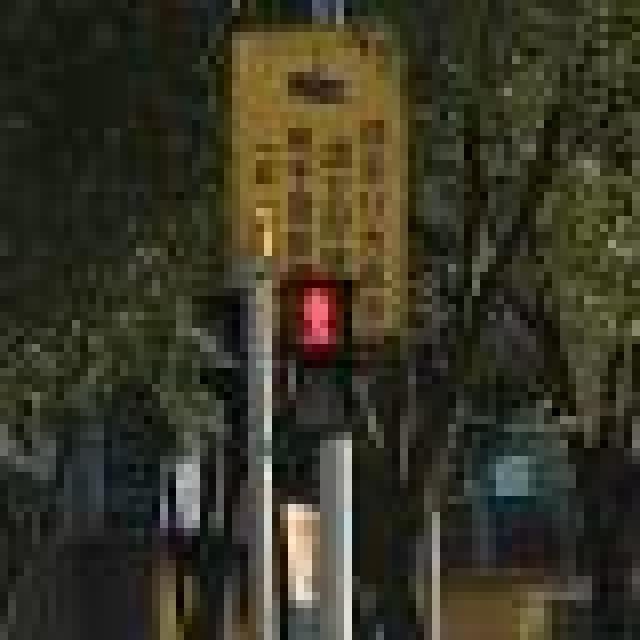redlight: (270, 279, 362, 436)
